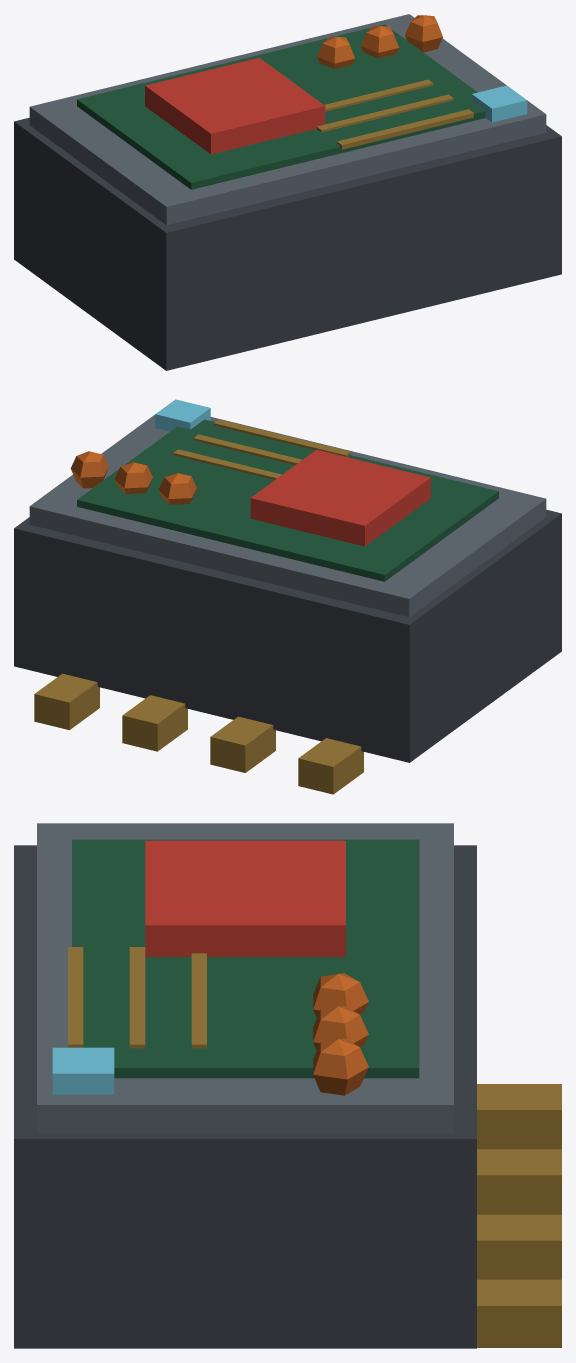
File: droid-fortitude-protocol-mk-3.glb
3 renders of one model, top to bottom at view 1: azimuth 30°, elevation 25°; view 2: azimuth 150°, elevation 25°; view 3: azimuth 270°, elevation 25°, orthographic. The views are drawn at different scales.
Parts seen in each view (by area): view 1: m; view 2: m; view 3: m.
Part boxes in pixels (x1=…): m: x1=14, y1=14, x2=561, y2=370; m: x1=14, y1=399, x2=561, y2=794; m: x1=14, y1=823, x2=561, y2=1348.
Bounding box in the file's own units: 0.1 × 0.0511 × 0.0789.
